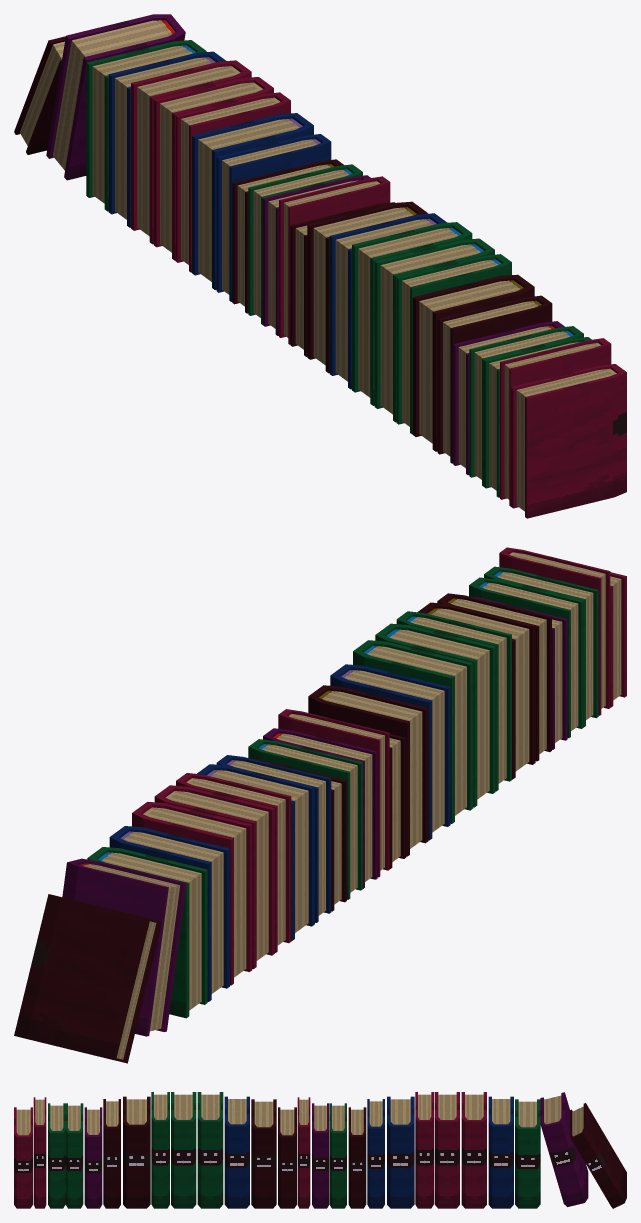
File: E_Books.8.fbx
3 views of the same model, one above another, from view 1: azimuth 30°, elevation 25°; view 2: azimuth 150°, elevation 25°; view 3: azimuth 270°, elevation 25° (orthographic). The views are drawn at different scales.
Visible parts, largest first — view 1: Cube.013; view 2: Cube.013; view 3: Cube.013.
Part boxes in pixels (box(x1,y1,x2,y2)): Cube.013: box(14, 14, 626, 518); Cube.013: box(14, 547, 626, 1063); Cube.013: box(14, 1092, 626, 1208).
Size of the model in its own units: 37.81 by 52.34 by 329.
